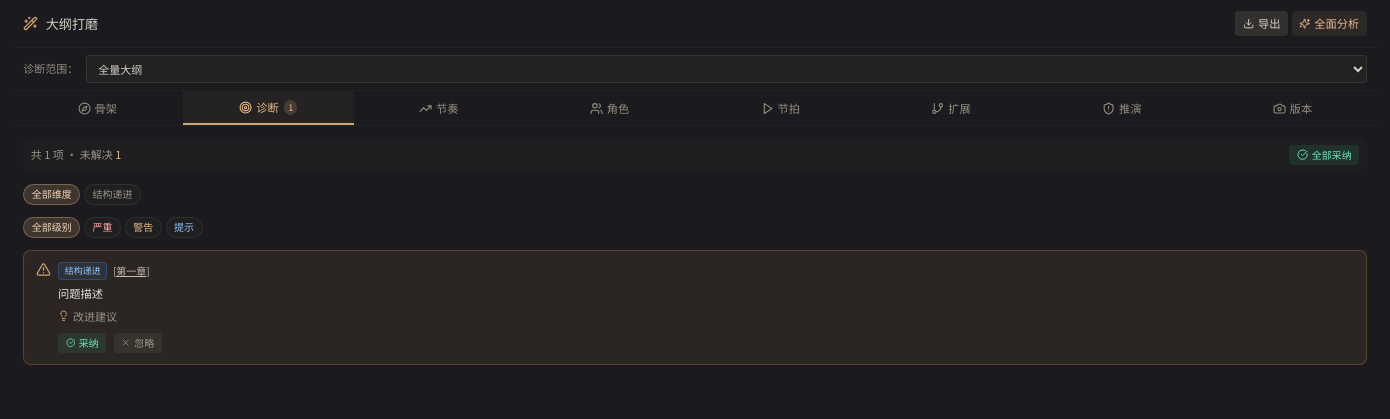
OutlinePolishPanel › 出场章节数超过 12 时显示 +N
Click the button "角色": [610, 108] box [524,91,695,125]
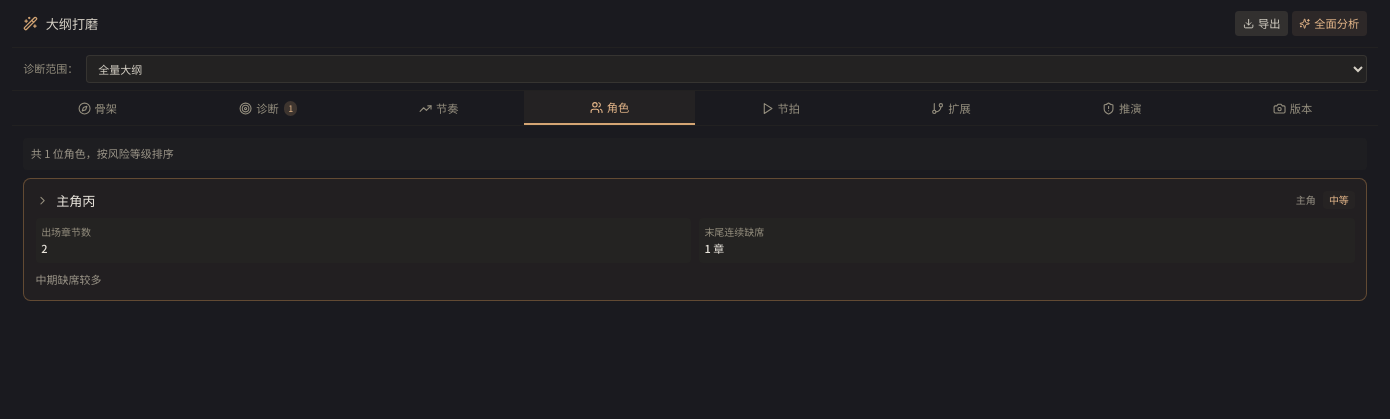
Click the text "主角丙": [76, 200] box [56,191,95,210]
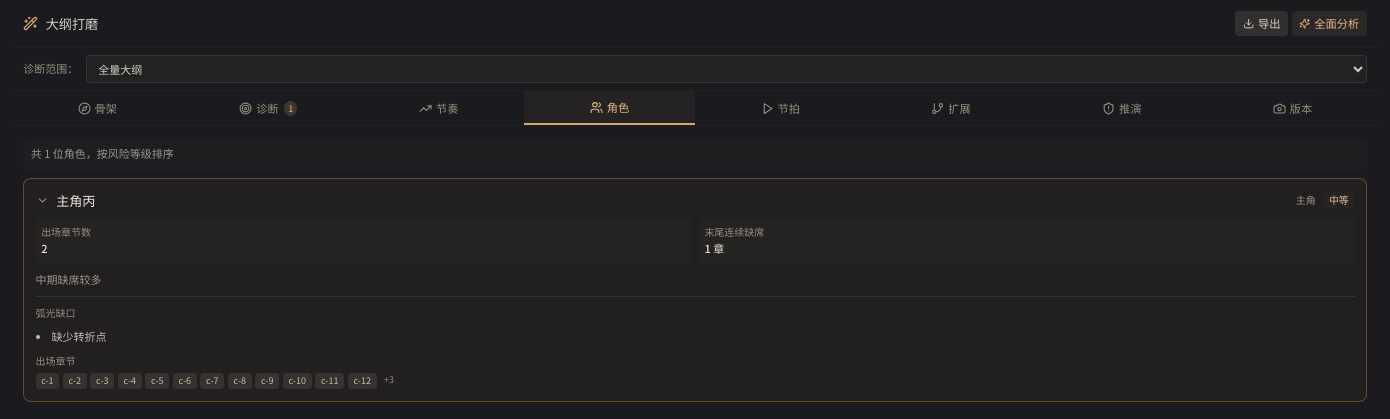
Expected: the text "+3" is shown, [384,373,394,386]
